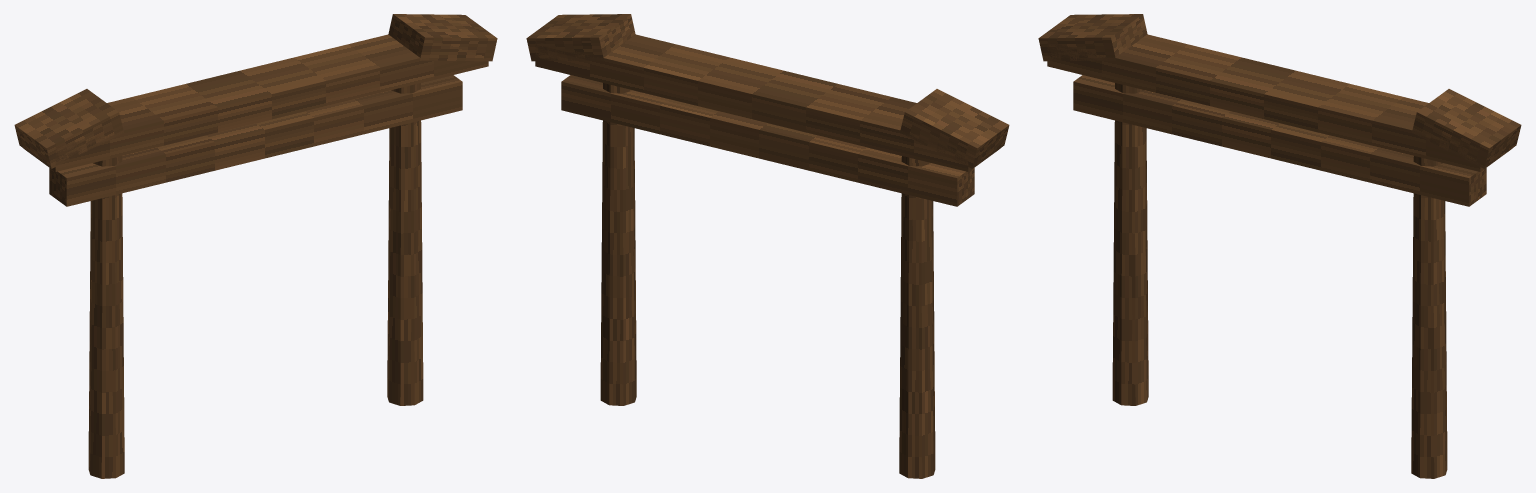
The model's file is gate_04.glb.
3 renders of one model, left to right at view 1: azimuth 30°, elevation 25°; view 2: azimuth 150°, elevation 25°; view 3: azimuth 330°, elevation 25°, orthographic.
Parts seen in each view (by area): view 1: Roof, Lintel, Pillar.001, Pillar, RaisedEave, RaisedEave.001; view 2: Roof, Lintel, Pillar.001, Pillar, RaisedEave, RaisedEave.001; view 3: Roof, Lintel, Pillar, Pillar.001, RaisedEave.001, RaisedEave.
Part boxes in pixels (x1=…): Roof: x1=23, y1=34, x2=488, y2=171; Lintel: x1=49, y1=75, x2=462, y2=206; Pillar.001: x1=387, y1=83, x2=423, y2=405; Pillar: x1=88, y1=156, x2=124, y2=478; RaisedEave: x1=14, y1=89, x2=123, y2=168; RaisedEave.001: x1=388, y1=14, x2=497, y2=61; Roof: x1=535, y1=34, x2=1000, y2=171; Lintel: x1=561, y1=75, x2=974, y2=206; Pillar.001: x1=600, y1=83, x2=636, y2=405; Pillar: x1=899, y1=156, x2=935, y2=478; RaisedEave: x1=900, y1=89, x2=1009, y2=168; RaisedEave.001: x1=526, y1=14, x2=635, y2=61; Roof: x1=1047, y1=34, x2=1512, y2=171; Lintel: x1=1073, y1=75, x2=1486, y2=206; Pillar: x1=1112, y1=83, x2=1148, y2=405; Pillar.001: x1=1411, y1=156, x2=1447, y2=478; RaisedEave.001: x1=1412, y1=89, x2=1521, y2=168; RaisedEave: x1=1038, y1=14, x2=1147, y2=61.
Size of the model in its own units: 5.27 by 4.15 by 0.65.
1 material, 1 textured.
